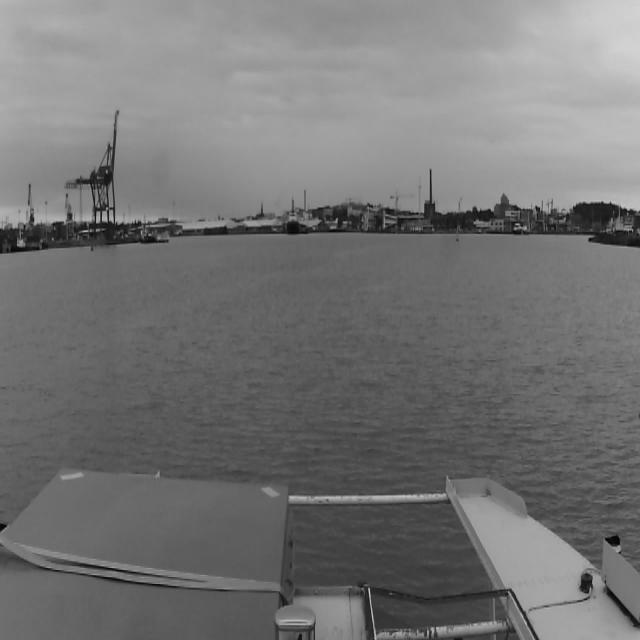buoy: (456, 226, 458, 241)
ship: (596, 206, 634, 236), (288, 199, 299, 235), (513, 222, 529, 235)
